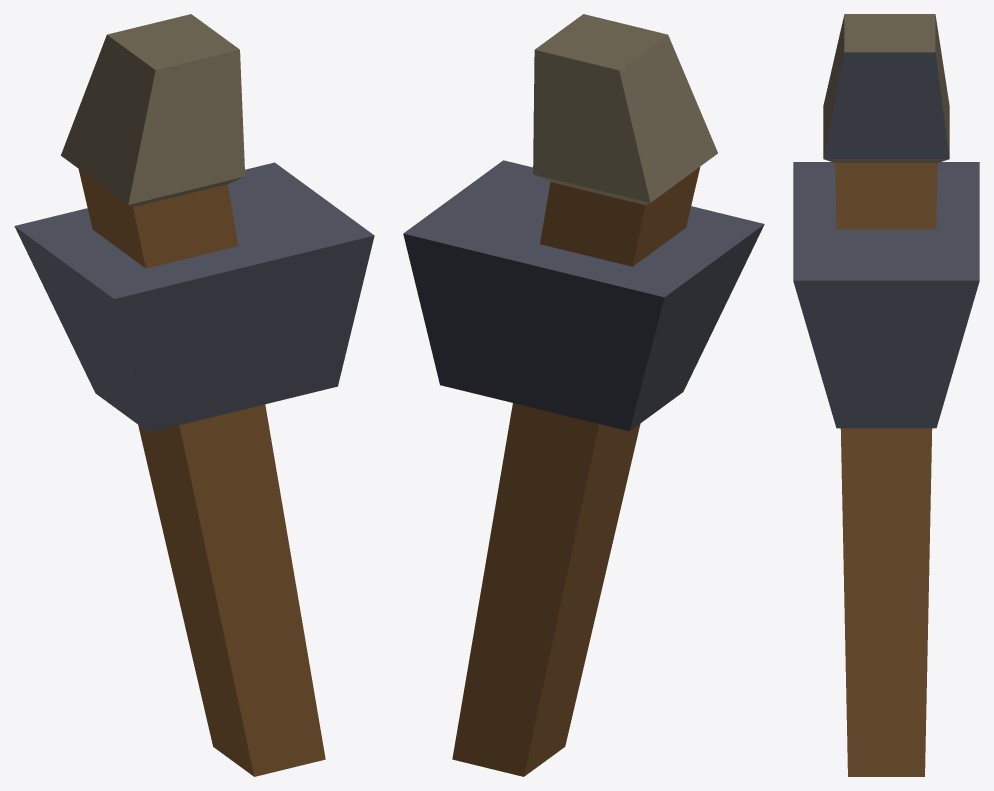
The model's file is wall torch.fbx.
3 views of the same model, side by side, from view 1: azimuth 30°, elevation 25°; view 2: azimuth 150°, elevation 25°; view 3: azimuth 270°, elevation 25° (orthographic). The views are drawn at different scales.
Parts seen in each view (by area): view 1: Cube.002; view 2: Cube.002; view 3: Cube.002.
Boxes of the visible parts, x1,y1,x2,y2 form: Cube.002: [14, 14, 374, 776]; Cube.002: [403, 14, 764, 776]; Cube.002: [793, 14, 979, 776].
Bounding box in the file's own units: 48.14 × 129 × 31.97.
